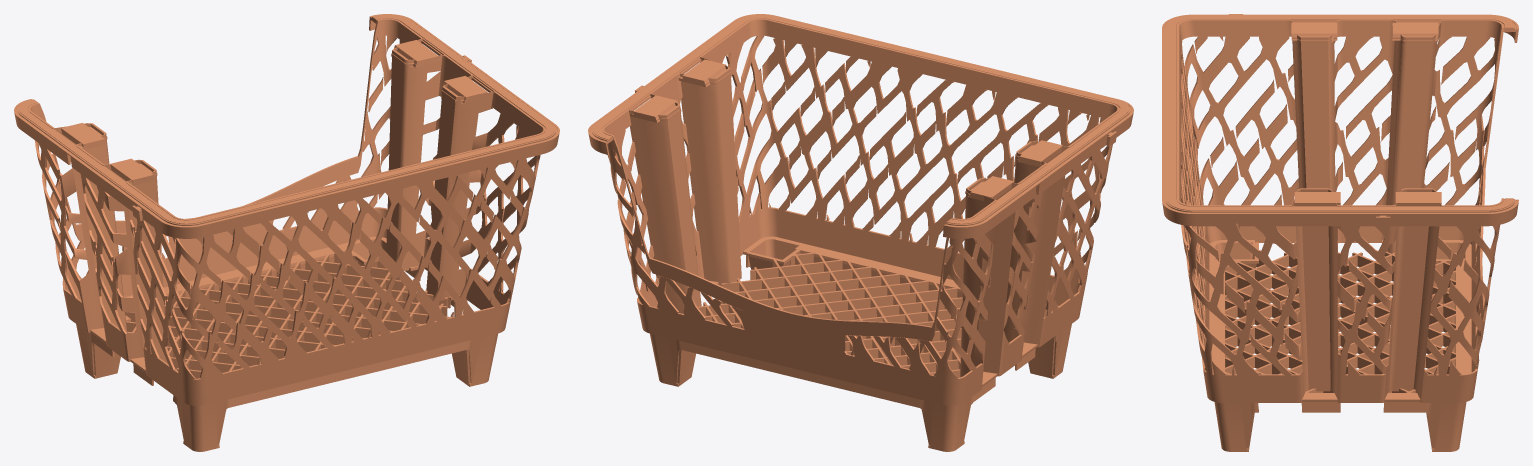
File: modula-M.glb
The picture shows the model from 3 angles, left to right: view 1: azimuth 30°, elevation 25°; view 2: azimuth 150°, elevation 25°; view 3: azimuth 270°, elevation 25°; orthographic projection. The views are drawn at different scales.
Visible parts, largest first — view 1: MODULA M; view 2: MODULA M; view 3: MODULA M.
Part boxes in pixels (<box>): MODULA M: <box>14,14,559,451</box>; MODULA M: <box>588,14,1133,451</box>; MODULA M: <box>1162,14,1518,451</box>.
Size of the model in its own units: 0.3981 by 0.241 by 0.2946.
